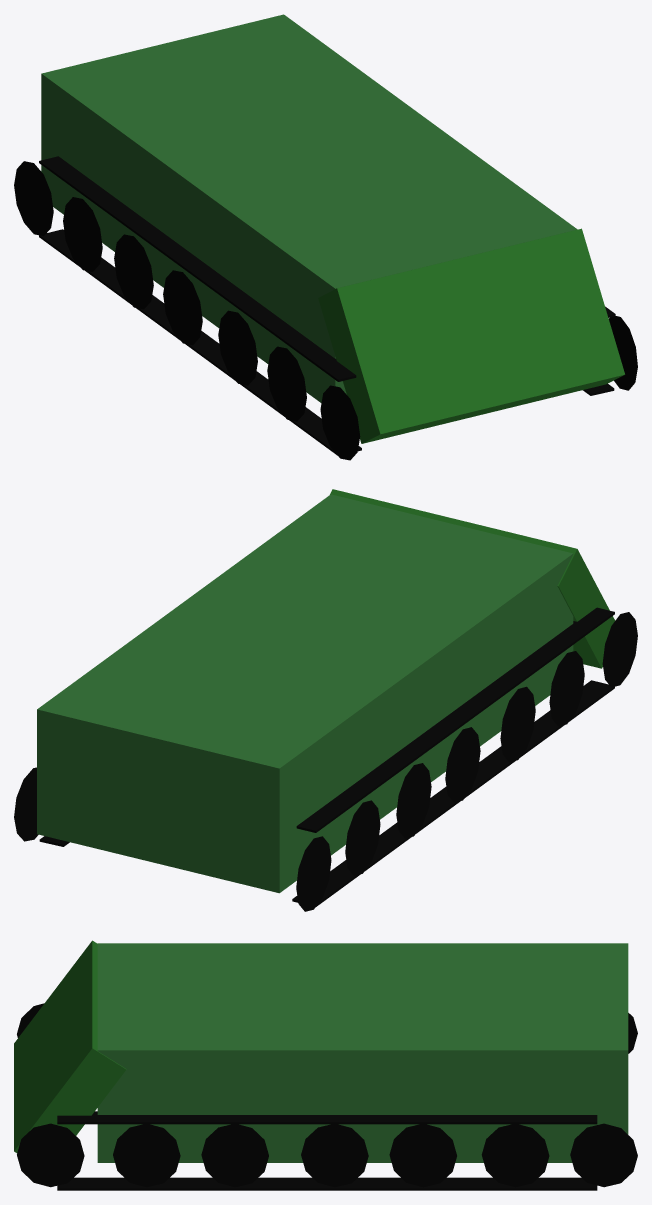
Rendered from mytank.dae.
The picture shows the model from 3 angles, top to bottom: view 1: azimuth 30°, elevation 25°; view 2: azimuth 150°, elevation 25°; view 3: azimuth 270°, elevation 25°; orthographic projection. The views are drawn at different scales.
Parts seen in each view (by area): view 1: Box, Box1, Merged_Meshes, Merged_Meshes1; view 2: Box, Merged_Meshes, Box1, Merged_Meshes1; view 3: Box, Merged_Meshes1, Box1, Merged_Meshes.
Boxes of the visible parts, left/top/right/bottom form: Box: left=41, top=14, right=577, bottom=402; Box1: left=318, top=228, right=624, bottom=443; Merged_Meshes: left=14, top=156, right=361, bottom=460; Merged_Meshes1: left=583, top=306, right=637, bottom=395; Box: left=37, top=494, right=573, bottom=893; Merged_Meshes: left=292, top=607, right=637, bottom=911; Box1: left=330, top=489, right=615, bottom=668; Merged_Meshes1: left=14, top=767, right=69, bottom=846; Box: left=97, top=943, right=628, bottom=1162; Merged_Meshes1: left=17, top=1111, right=637, bottom=1190; Box1: left=14, top=940, right=126, bottom=1152; Merged_Meshes: left=17, top=1003, right=637, bottom=1053.
Bounding box in the file's own units: 1.26 × 0.6436 × 2.67.
